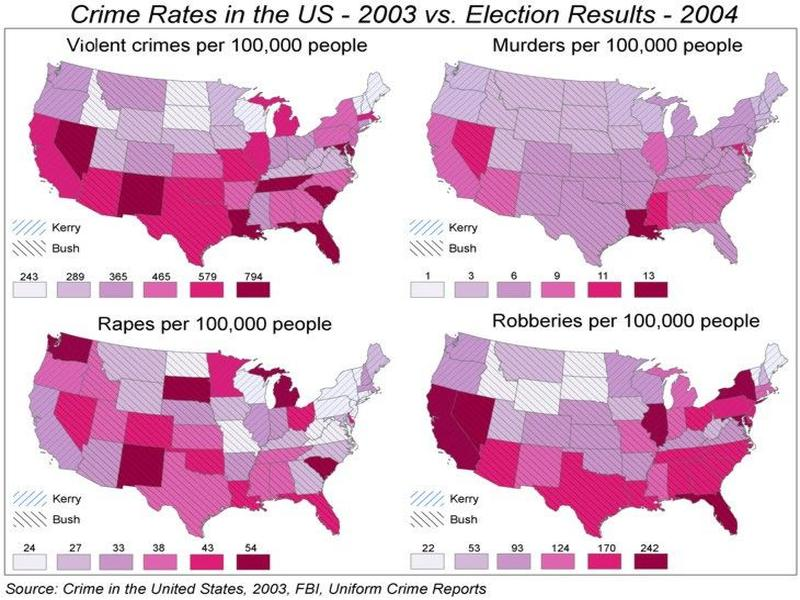legend: (407, 270, 671, 303), (11, 268, 272, 300), (11, 542, 273, 573), (409, 542, 668, 571)
